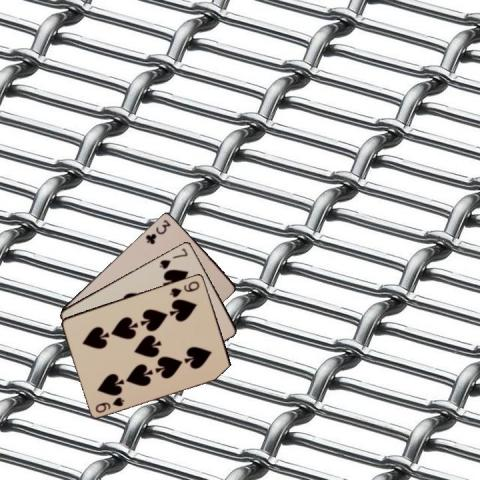3c: (143, 216, 172, 245)
7s: (156, 245, 188, 270)
9s: (166, 278, 200, 299), (93, 394, 126, 414)
